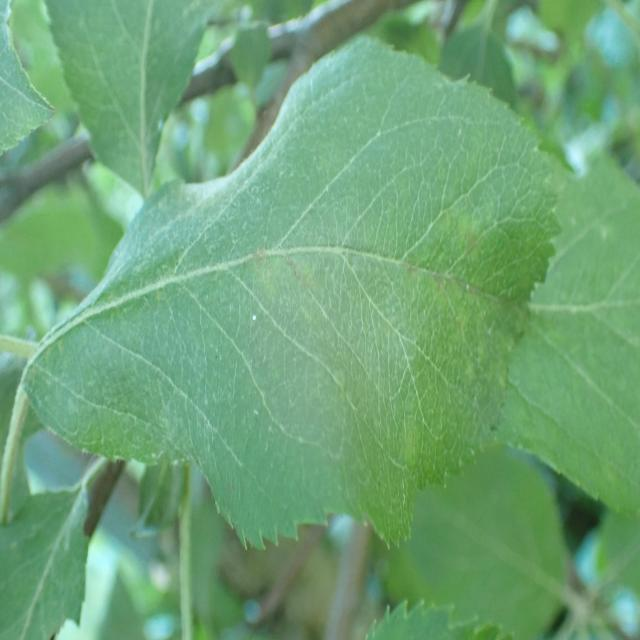scab: (113, 156, 546, 450)
